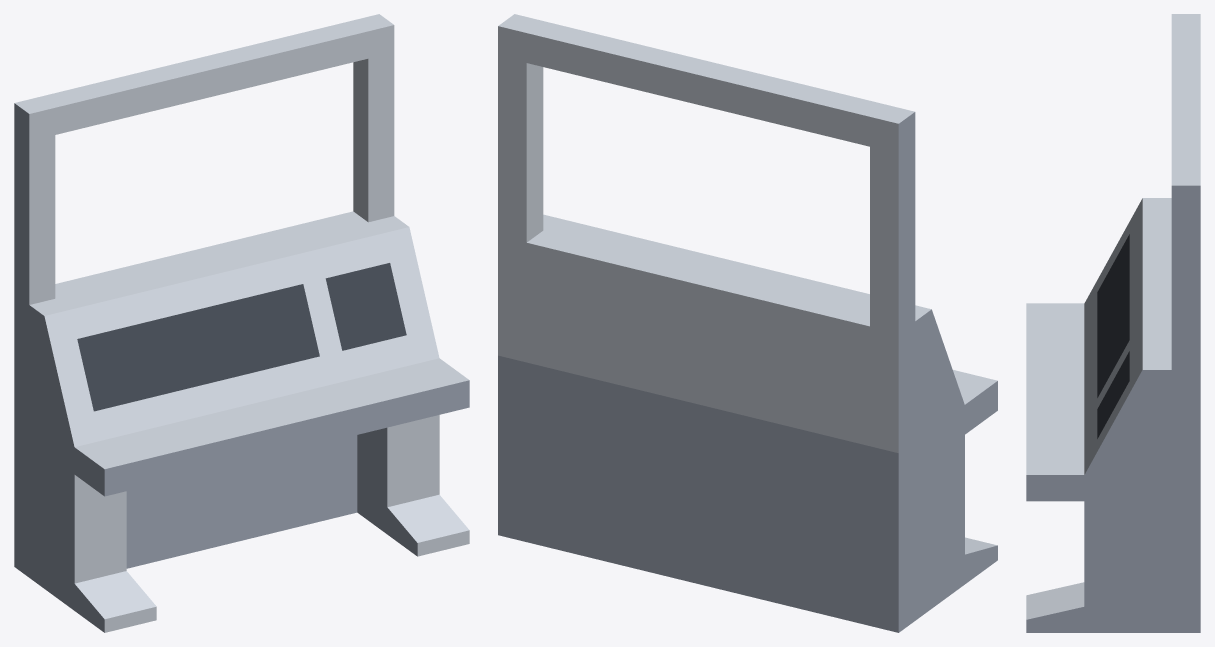
The model's file is desk_computerScreen.glb.
3 views of the same model, side by side, from view 1: azimuth 30°, elevation 25°; view 2: azimuth 150°, elevation 25°; view 3: azimuth 270°, elevation 25° (orthographic). The views are drawn at different scales.
Visible parts, largest first — view 1: desk_computerScreen; view 2: desk_computerScreen; view 3: desk_computerScreen.
Boxes of the visible parts, x1,y1,x2,y2 form: desk_computerScreen: (14, 14, 469, 632); desk_computerScreen: (498, 14, 997, 632); desk_computerScreen: (1026, 14, 1200, 632).
Bounding box in the file's own units: 0.525 × 0.6375 × 0.225.
